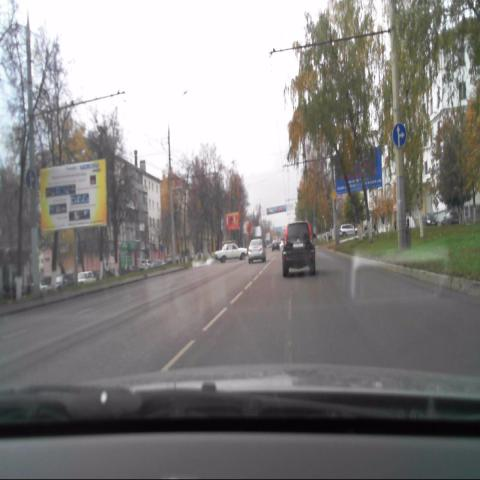4_1_4: (390, 122, 408, 150), (24, 166, 37, 192)
